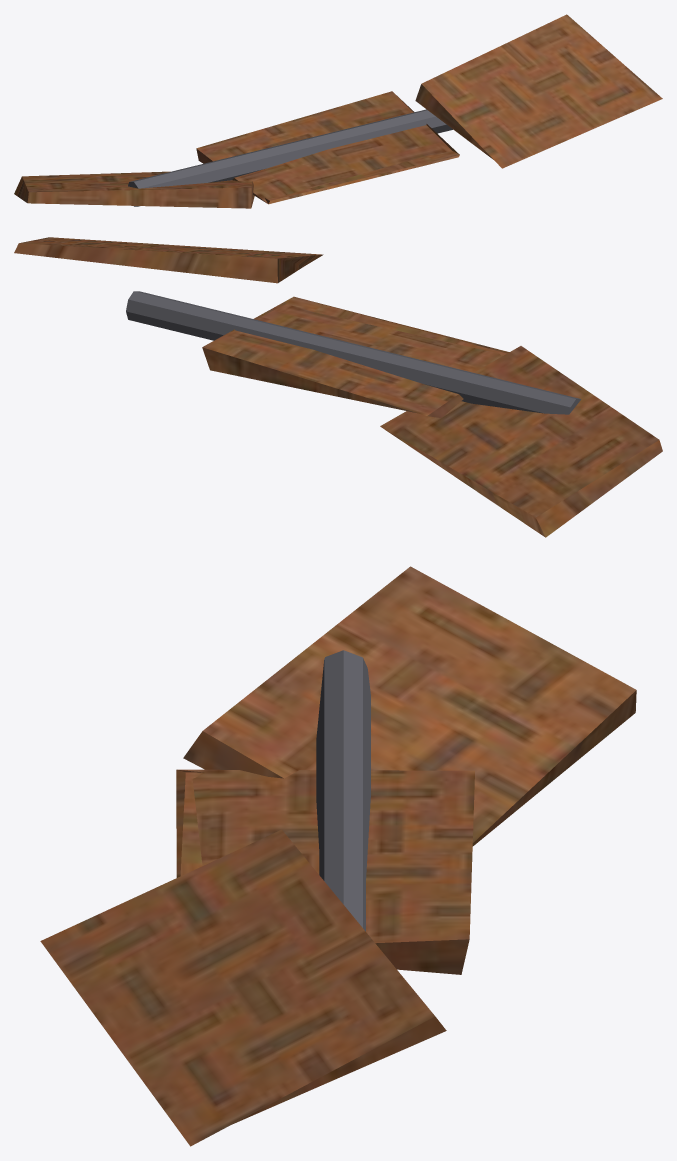
Rendered from debris_wing_shattered.glb.
3 renders of one model, top to bottom at view 1: azimuth 30°, elevation 25°; view 2: azimuth 150°, elevation 25°; view 3: azimuth 270°, elevation 25°, orthographic. The views are drawn at different scales.
Visible parts, largest first — view 1: ShatteredWing; view 2: ShatteredWing; view 3: ShatteredWing.
Boxes of the visible parts, x1,y1,x2,y2 form: ShatteredWing: (14, 14, 662, 208); ShatteredWing: (14, 237, 662, 537); ShatteredWing: (40, 566, 636, 1146).
Bounding box in the file's own units: 6.88 × 1.1 × 3.06.
2 materials, 1 textured.
